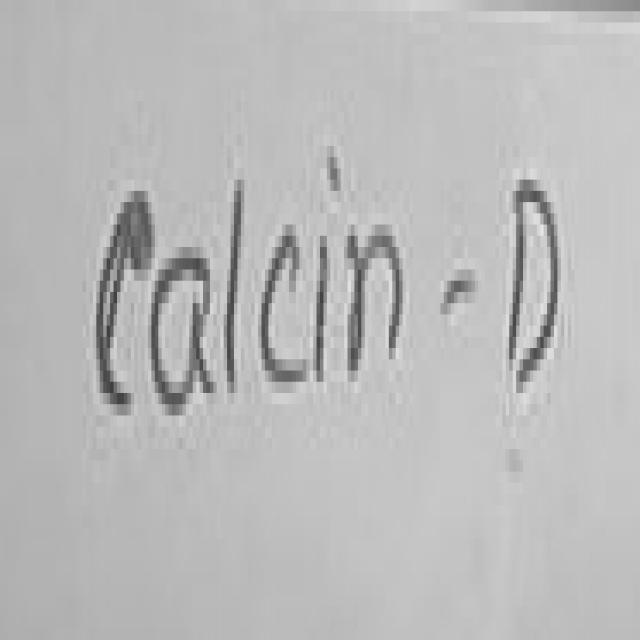C: (96, 191, 155, 404)
D: (513, 180, 561, 393)
a: (151, 258, 213, 415)
c: (262, 236, 306, 382)
i: (317, 236, 330, 376), (330, 146, 344, 191)
l: (227, 180, 244, 393)
n: (348, 236, 403, 365)
